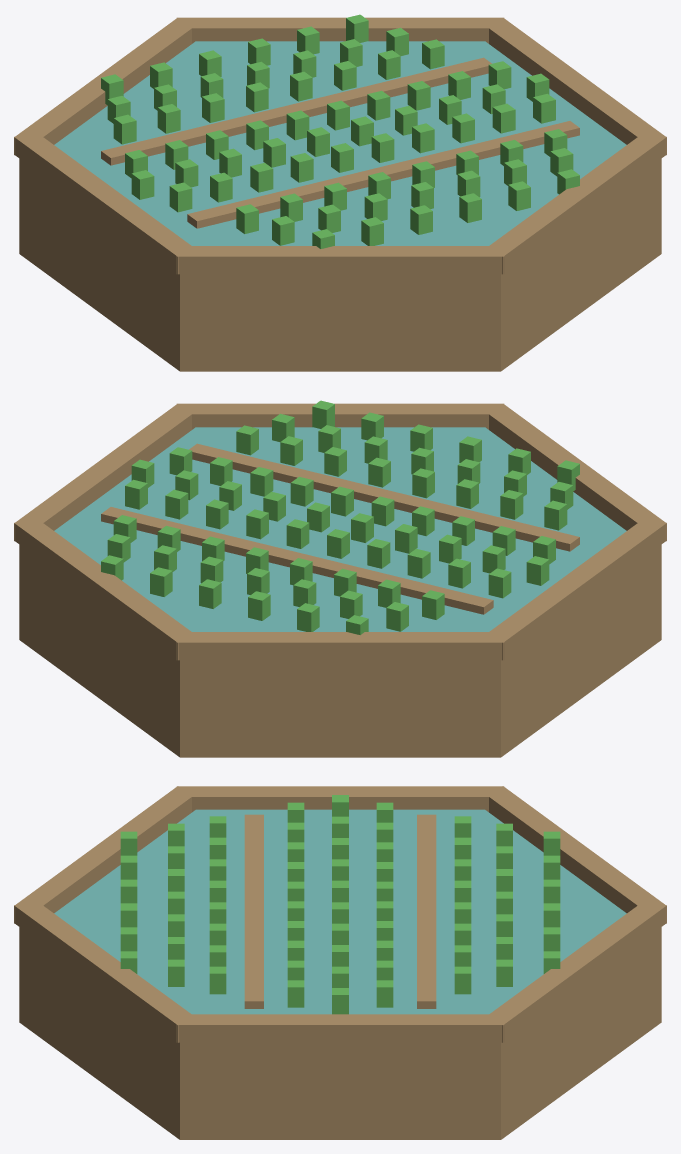
Rendered from paddy.glb.
3 views of the same model, one above another, from view 1: azimuth 30°, elevation 25°; view 2: azimuth 150°, elevation 25°; view 3: azimuth 270°, elevation 25° (orthographic).
Visible parts, largest first — view 1: base, water, bank4, bank1, bank3, bank5, bank0, divider1, bank2, divider0, rice_-0.08_0, rice_-0.08_8 (+54 smaller); view 2: base, water, bank2, bank5, bank1, bank3, bank0, divider0, bank4, divider1, rice_-0.22_0, rice_0.0_0 (+54 smaller); view 3: base, water, bank0, bank3, bank1, bank5, bank4, bank2, divider0, divider1.
Part boxes in pixels (x1=…): base: x1=19, y1=158, x2=661, y2=371; water: x1=54, y1=41, x2=626, y2=245; bank4: x1=176, y1=246, x2=504, y2=274; bank1: x1=176, y1=17, x2=503, y2=43; bank3: x1=14, y1=131, x2=198, y2=274; bank5: x1=485, y1=136, x2=666, y2=274; bank0: x1=482, y1=17, x2=666, y2=155; divider1: x1=101, y1=57, x2=491, y2=165; bank2: x1=14, y1=18, x2=196, y2=155; divider0: x1=187, y1=121, x2=579, y2=228; rice_-0.08_0: x1=169, y1=182, x2=192, y2=212; rice_-0.08_8: x1=492, y1=103, x2=515, y2=133; base: x1=19, y1=544, x2=661, y2=757; water: x1=54, y1=427, x2=626, y2=631; bank2: x1=176, y1=632, x2=504, y2=660; bank5: x1=177, y1=403, x2=501, y2=429; bank1: x1=14, y1=522, x2=198, y2=660; bank3: x1=489, y1=522, x2=666, y2=660; bank0: x1=14, y1=403, x2=198, y2=541; divider0: x1=189, y1=443, x2=579, y2=551; bank4: x1=482, y1=403, x2=666, y2=541; divider1: x1=101, y1=507, x2=493, y2=614; rice_-0.22_0: x1=544, y1=500, x2=567, y2=530; rice_0.0_0: x1=526, y1=556, x2=549, y2=585; base: x1=19, y1=927, x2=661, y2=1139; water: x1=54, y1=809, x2=626, y2=1014; bank0: x1=176, y1=1014, x2=504, y2=1042; bank3: x1=176, y1=786, x2=504, y2=812; bank1: x1=482, y1=900, x2=666, y2=1042; bank5: x1=14, y1=905, x2=198, y2=1042; bank4: x1=14, y1=786, x2=198, y2=923; bank2: x1=482, y1=786, x2=666, y2=923; divider0: x1=244, y1=814, x2=263, y2=1008; divider1: x1=417, y1=814, x2=436, y2=1008.
Size of the model in its own units: 1.02 by 0.2525 by 1.17.
